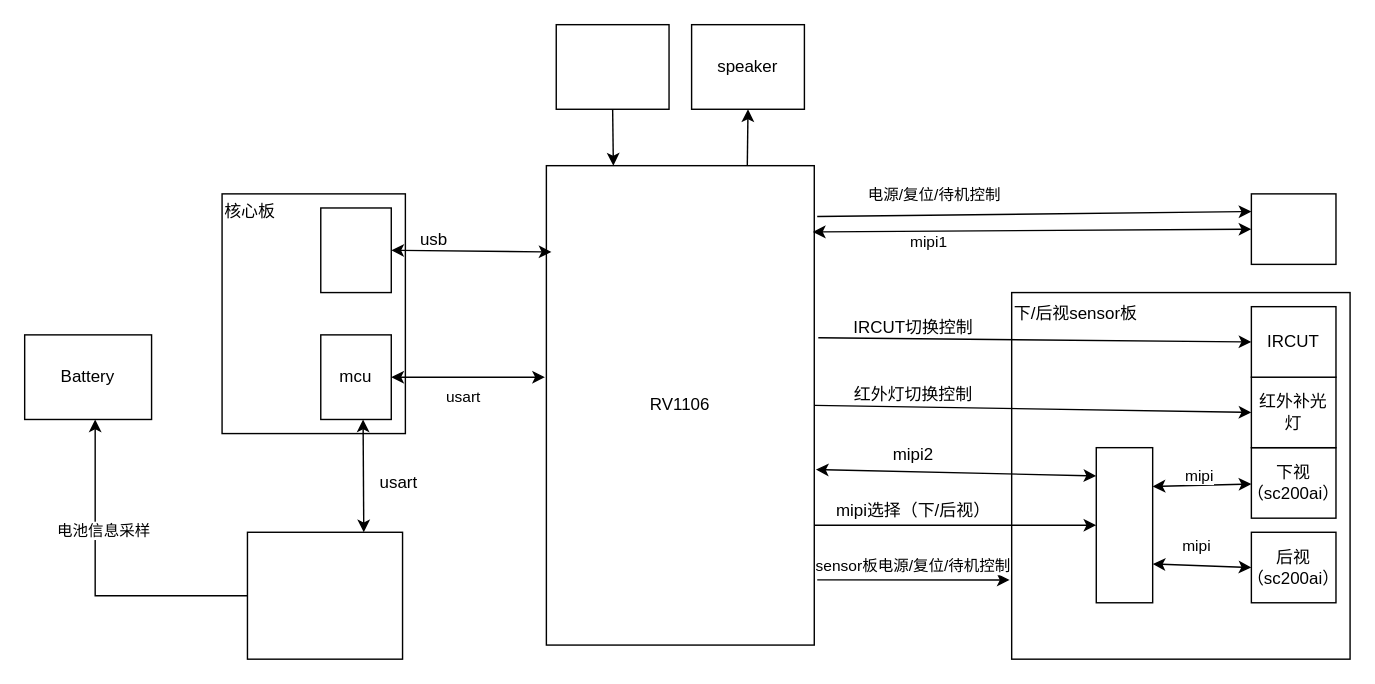
This 1375x684 diagram has some shape labels left out. The centre of each missing label's shape, as x and y in pixels:
"4G模块" belongs at point (355, 250).
"CT取电板MCU" belongs at point (324, 595).
"mic" belongs at point (612, 66).
"mipi switch" belongs at point (1124, 524).
"前视（sc200ai）" belongs at point (1293, 228).
